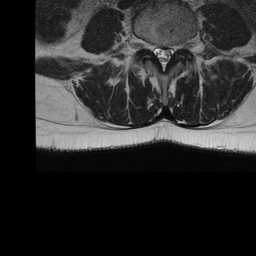CCS_normal: (159, 39, 167, 77)
LFS_normal: (174, 37, 183, 58)
LLS_normal: (167, 39, 174, 63)
RFS_normal: (145, 34, 152, 57)
RLS_normal: (152, 38, 159, 61)
